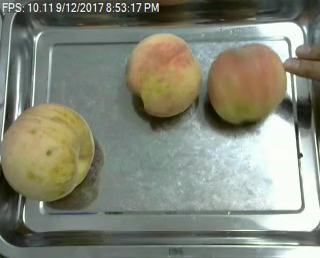Peach: (1, 101, 96, 201), (207, 43, 287, 124), (125, 32, 200, 117)
